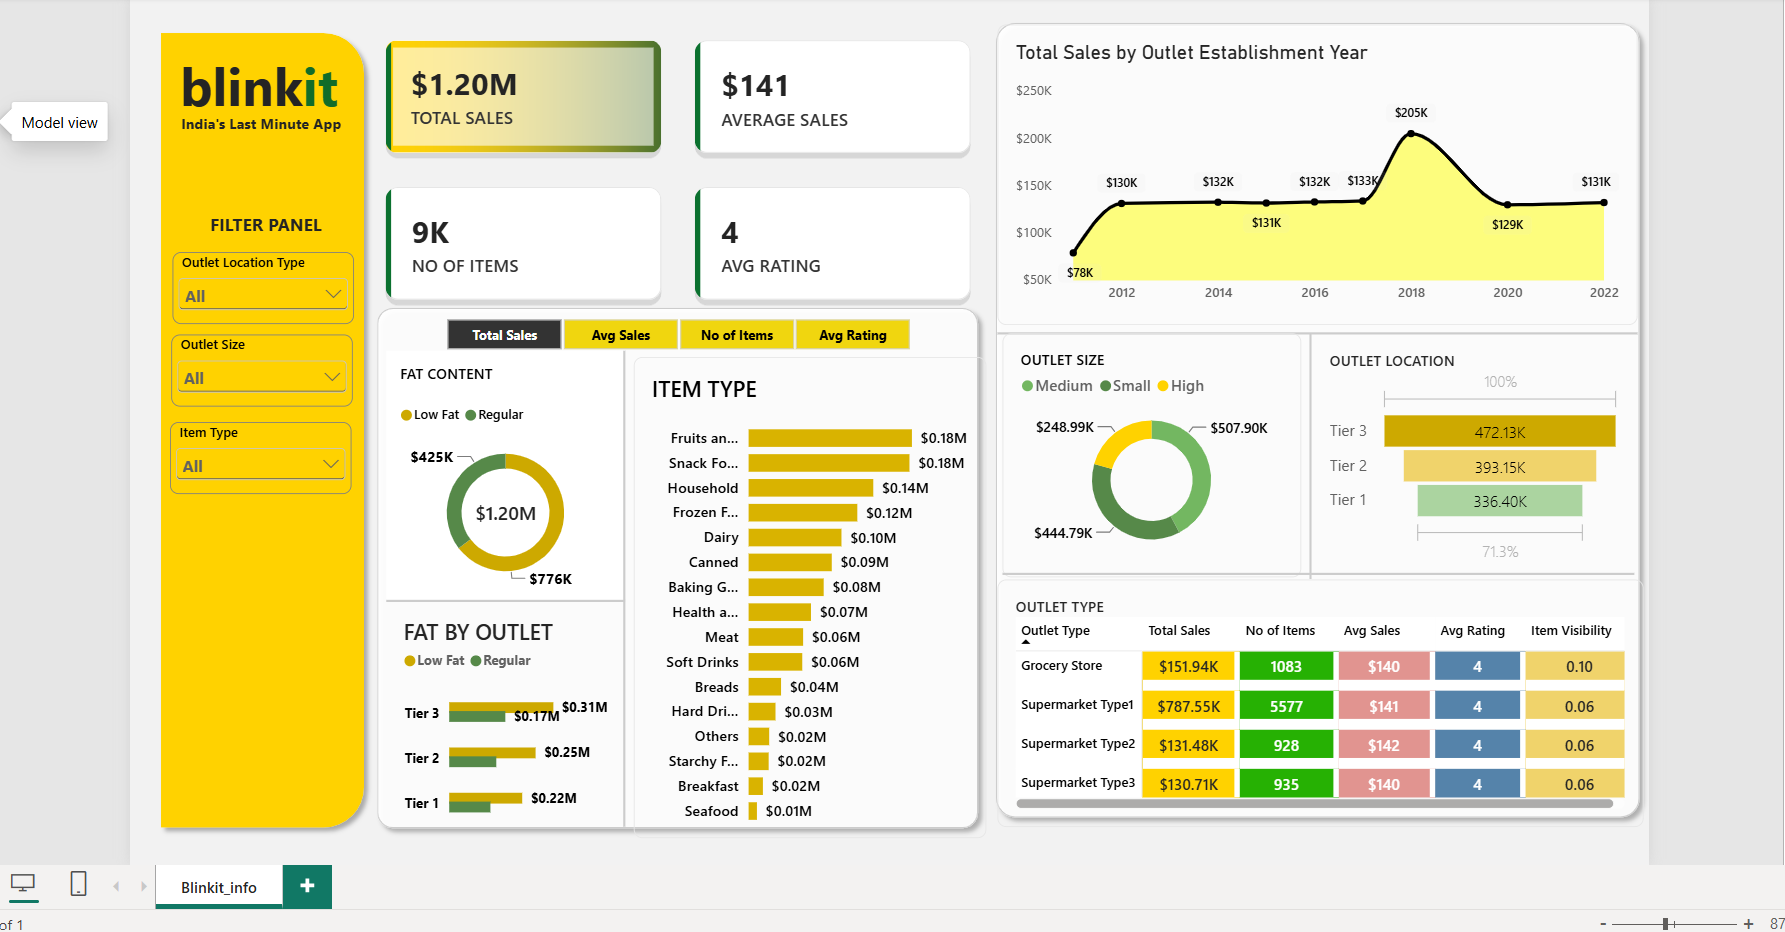

This screenshot's page, from the dashboard's own definition file:
{"tool":"powerbi","page":{"name":"Blinkit_info","canvas":[1400,800],"ordinal":0},"visuals":[{"type":"shape","box":[19.4,24.6,205,750],"z":0},{"type":"textbox","box":[31.5,48.5,175.7,69.5],"z":1000},{"type":"textbox","box":[271.3,24.9,478.5,114],"z":2000},{"type":"textbox","box":[47.3,105.7,159.4,33.1],"z":3000},{"type":"cardVisual","fields":{"Data":["BlinkIT Grocery Data.Total Sales","BlinkIT Grocery Data.Avg Sales","BlinkIT Grocery Data.No of Items","BlinkIT Grocery Data.Avg Rating"]},"box":[220,24.3,570,270],"z":4000},{"type":"shape","box":[218.6,277.1,571.4,497.1],"z":5000},{"type":"slicer","fields":{"Values":["Metrics.Metrics"]},"box":[271.4,294.3,465.7,31.4],"z":6000},{"type":"donutChart","title":"FAT CONTENT","fields":{"Category":["BlinkIT Grocery Data.Item Fat Content"],"Y":["BlinkIT Grocery Data.Total Sales"]},"box":[235.7,325.7,220,230],"z":7000},{"type":"clusteredBarChart","title":"FAT BY OUTLET","fields":{"Category":["BlinkIT Grocery Data.Outlet Location Type"],"Series":["BlinkIT Grocery Data.Item Fat Content"],"Y":["BlinkIT Grocery Data.Total Sales"]},"box":[235.7,555.7,220,230],"z":8000},{"type":"shape","box":[235.7,537.1,220,37.1],"z":9000},{"type":"shape","box":[447.1,325.7,17.1,438.6],"z":10000},{"type":"barChart","title":"ITEM TYPE","fields":{"Category":["BlinkIT Grocery Data.Item Type"],"Y":["BlinkIT Grocery Data.Total Sales"]},"box":[463.9,331.4,325.1,443.4],"z":11000},{"type":"shape","box":[789.1,14.4,610.9,749.8],"z":12000},{"type":"lineChart","fields":{"Category":["BlinkIT Grocery Data.Outlet Establishment Year"],"Y":["BlinkIT Grocery Data.Total Sales"]},"box":[799.6,24.9,589.9,276.6],"z":13000},{"type":"shape","box":[799.6,294.9,589.9,30.1],"z":14000},{"type":"donutChart","title":"OUTLET SIZE","fields":{"Category":["BlinkIT Grocery Data.Outlet Size"],"Y":["BlinkIT Grocery Data.Total Sales"]},"box":[804,310.2,275,225],"z":15000},{"type":"shape","box":[1079.4,310.2,17,226.8],"z":16000},{"type":"funnel","title":"OUTLET LOCATION","fields":{"Category":["BlinkIT Grocery Data.Outlet Location Type"],"Y":["Sum(BlinkIT Grocery Data.Sales)"]},"box":[1089.3,310.7,300.2,225.5],"z":17000},{"type":"shape","box":[803.6,516.5,582,28.8],"z":18000},{"type":"pivotTable","title":"OUTLET TYPE","fields":{"Rows":["BlinkIT Grocery Data.Outlet Type"],"Values":["BlinkIT Grocery Data.Total Sales","BlinkIT Grocery Data.No of Items","BlinkIT Grocery Data.Avg Sales","BlinkIT Grocery Data.Avg Rating","Avg(BlinkIT Grocery Data.Item Visibility)"]},"box":[799.6,536.1,595.1,228.1],"z":18001},{"type":"slicer","fields":{"Values":["BlinkIT Grocery Data.Outlet Location Type"]},"box":[39.5,235.1,167.3,66.3],"z":18002},{"type":"slicer","fields":{"Values":["BlinkIT Grocery Data.Outlet Size"]},"box":[38,310.7,167.3,66.3],"z":18003},{"type":"slicer","fields":{"Values":["BlinkIT Grocery Data.Item Type"]},"box":[36.3,391.3,167.3,66.3],"z":18004},{"type":"textbox","box":[47.1,198.5,156.3,26.1],"z":18005}]}

Visuals, with their boxes on the page's 1400x800 design canvas (x1, y1, x2, y2). These are canvas units, not pixel positions in the 1785x932 screenshot, which may show the page scaled, cropped or inside an application window:
shape: 19 25 224 775
textbox: 32 48 207 118
textbox: 271 25 750 139
textbox: 47 106 207 139
cardVisual - BlinkIT Grocery Data.Total Sales x BlinkIT Grocery Data.Avg Sales: 220 24 790 294
shape: 219 277 790 774
slicer - Metrics.Metrics: 271 294 737 326
"FAT CONTENT" donutChart: 236 326 456 556
"FAT BY OUTLET" clusteredBarChart: 236 556 456 786
shape: 236 537 456 574
shape: 447 326 464 764
"ITEM TYPE" barChart: 464 331 789 775
shape: 789 14 1400 764
lineChart - BlinkIT Grocery Data.Outlet Establishment Year x BlinkIT Grocery Data.Total Sales: 800 25 1390 302
shape: 800 295 1390 325
"OUTLET SIZE" donutChart: 804 310 1079 535
shape: 1079 310 1096 537
"OUTLET LOCATION" funnel: 1089 311 1390 536
shape: 804 516 1386 545
"OUTLET TYPE" pivotTable: 800 536 1395 764
slicer - BlinkIT Grocery Data.Outlet Location Type: 40 235 207 301
slicer - BlinkIT Grocery Data.Outlet Size: 38 311 205 377
slicer - BlinkIT Grocery Data.Item Type: 36 391 204 458
textbox: 47 198 203 225
